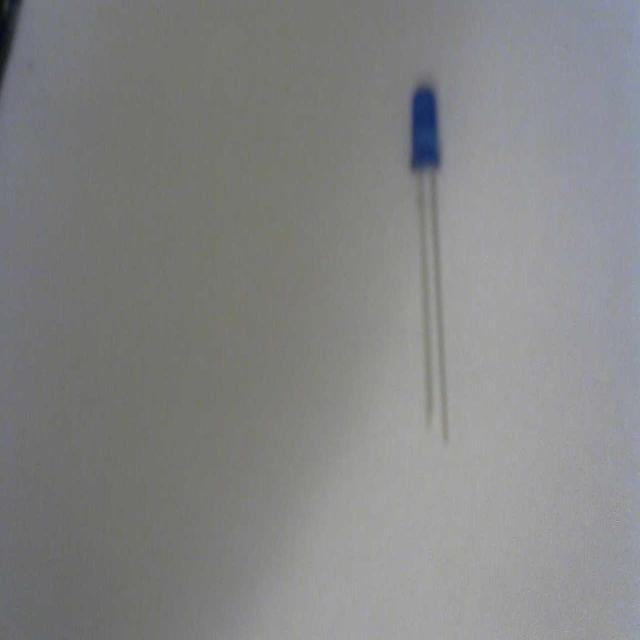blue_led: (410, 84, 441, 170)
